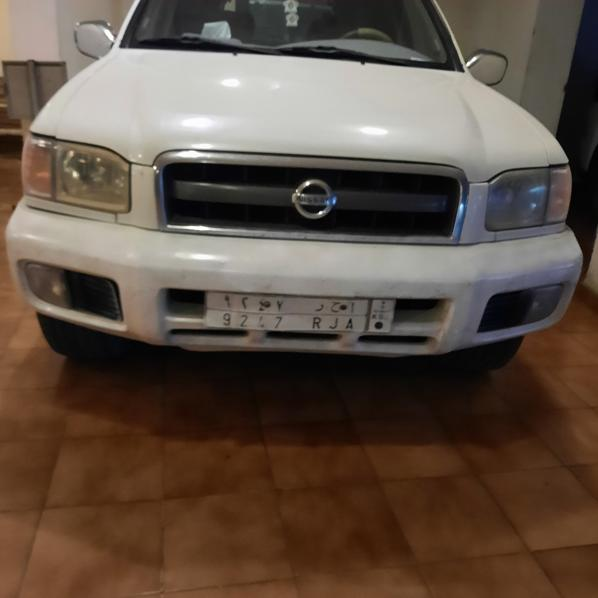numberplate: (204, 290, 396, 334)
